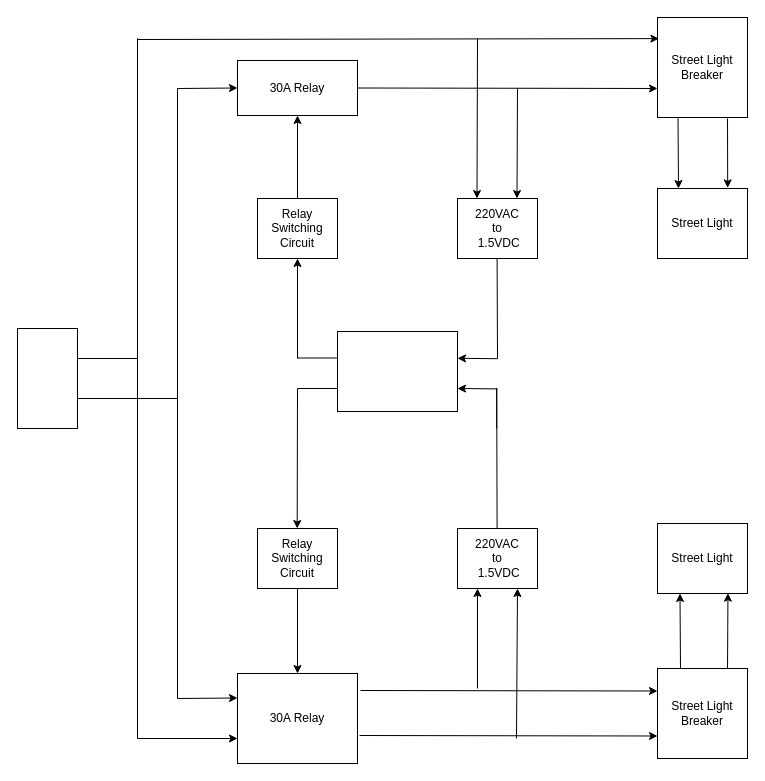
This 765x781 diagram has some shape labels left out. Each missing label, with the centre of its shape:
220V AC: the point at 47,378
Pic24: the point at 397,371
